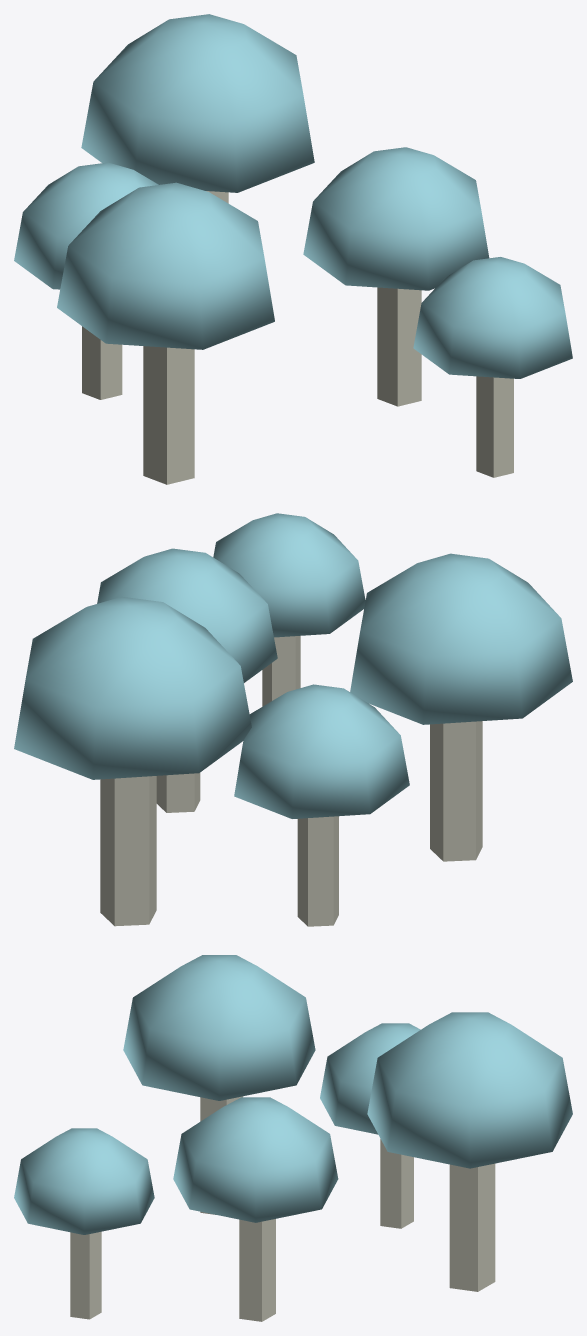
Rendered from mushroom_glowcap.glb.
The picture shows the model from 3 angles, top to bottom: view 1: azimuth 30°, elevation 25°; view 2: azimuth 150°, elevation 25°; view 3: azimuth 270°, elevation 25°; orthographic projection. The views are drawn at different scales.
Visible parts, largest first — view 1: mushroom_glowcap; view 2: mushroom_glowcap; view 3: mushroom_glowcap.
Part boxes in pixels (box(x1,y1,x2,y2)): mushroom_glowcap: box(14, 14, 572, 484); mushroom_glowcap: box(14, 513, 572, 926); mushroom_glowcap: box(14, 955, 572, 1321).
Size of what is drawn, in the model's own units: 0.2012 by 0.1369 by 0.2639.
